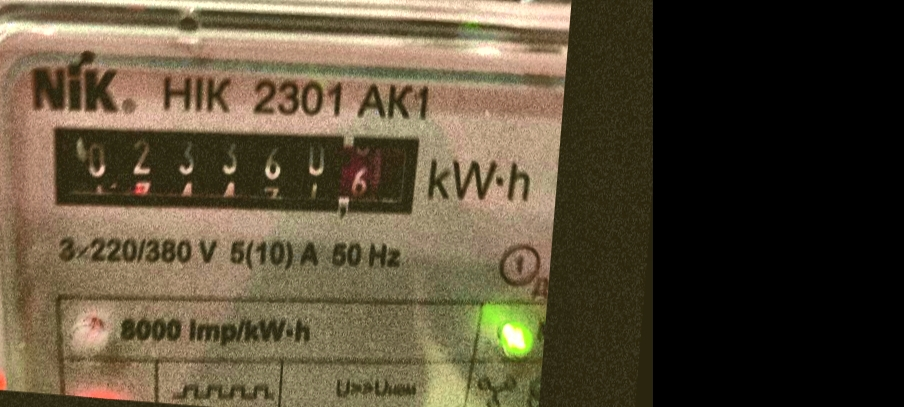0: (82, 136, 110, 180), (303, 139, 329, 178)
2: (126, 134, 155, 176)
3: (173, 135, 197, 177), (215, 137, 240, 176)
6: (257, 140, 286, 183), (348, 162, 372, 199)
screen: (25, 93, 434, 243)
